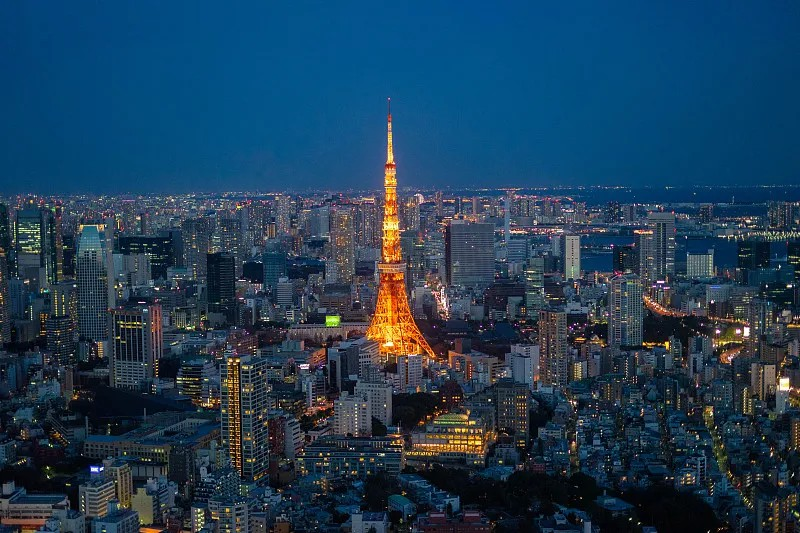Tokyo: (361, 96, 436, 359)
